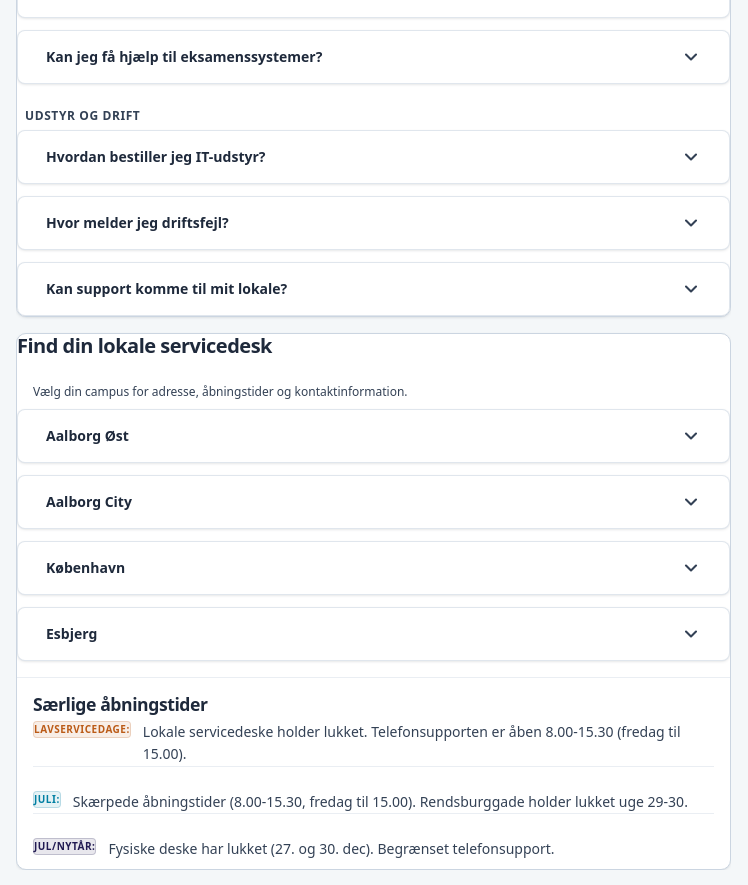
Test: Support › shows opening hours when location accordion is opened
(page scrolled)
Click the heading "Aalborg Øst" at (87, 436), box x1=46 y1=426 x2=701 y2=446
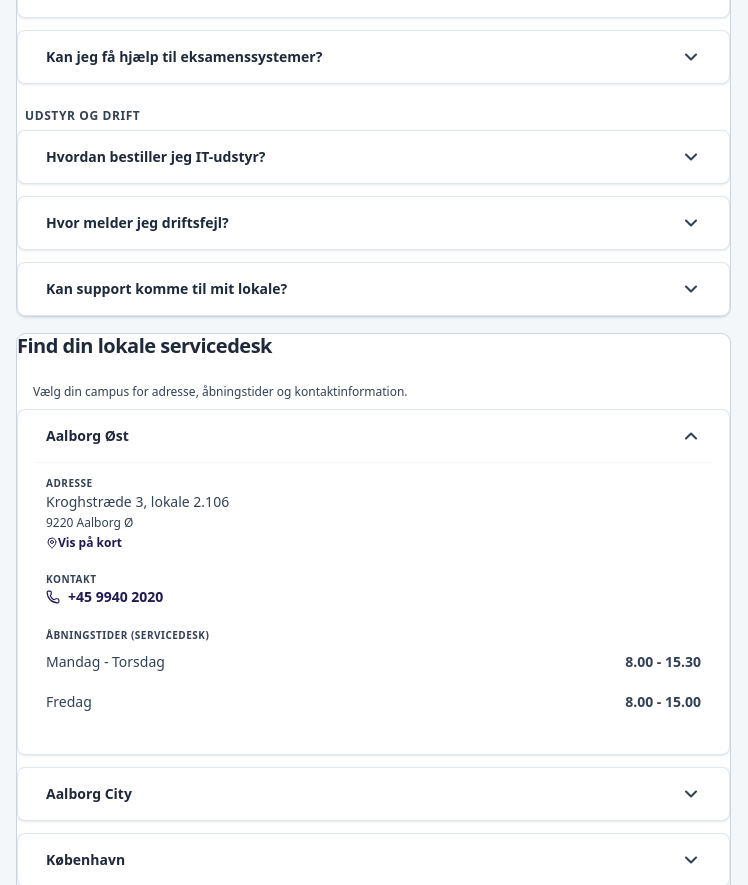
Now the text "Mandag - Torsdag" is shown, box x1=46 y1=651 x2=165 y2=673
Now the text "8.00 - 15.30" is shown, box x1=625 y1=651 x2=701 y2=673
